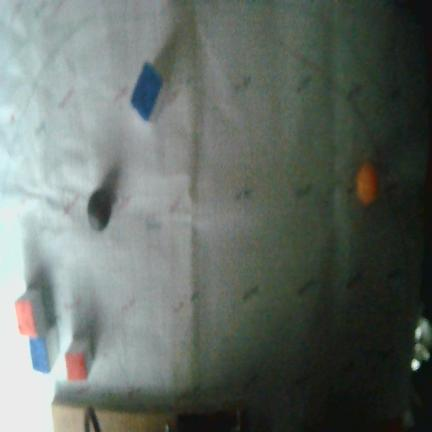circle_blue: (90, 192, 110, 228)
circle_orange: (355, 161, 379, 205)
rectangle_blue: (130, 62, 162, 122)
rectangle_orange: (65, 353, 88, 381)
square_blue: (29, 335, 50, 374)
square_orange: (16, 303, 37, 336)
